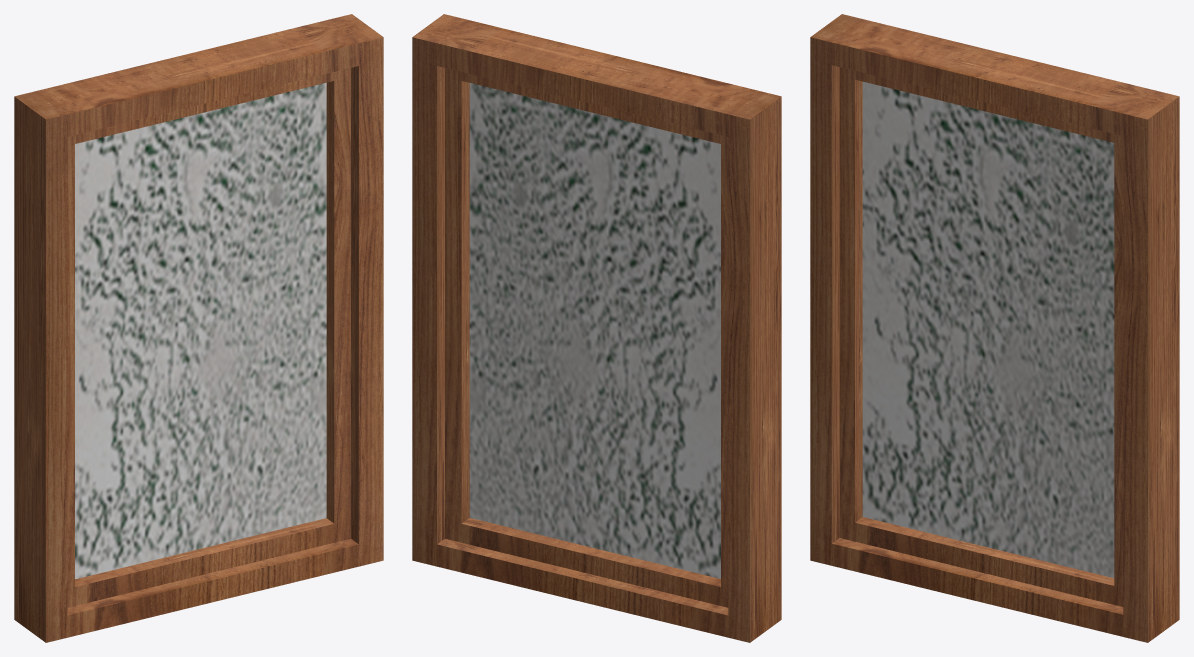
The model's file is Normal_Casement.obj.
The picture shows the model from 3 angles, left to right: view 1: azimuth 30°, elevation 25°; view 2: azimuth 150°, elevation 25°; view 3: azimuth 330°, elevation 25°; orthographic projection.
Parts seen in each view (by area): view 1: Casement; view 2: Casement; view 3: Casement.
Part boxes in pixels (box(x1,y1,x2,y2)): Casement: box(14, 14, 383, 642); Casement: box(412, 14, 781, 642); Casement: box(810, 14, 1179, 642).
Size of the model in its own units: 10.83 by 16.04 by 1.76.
